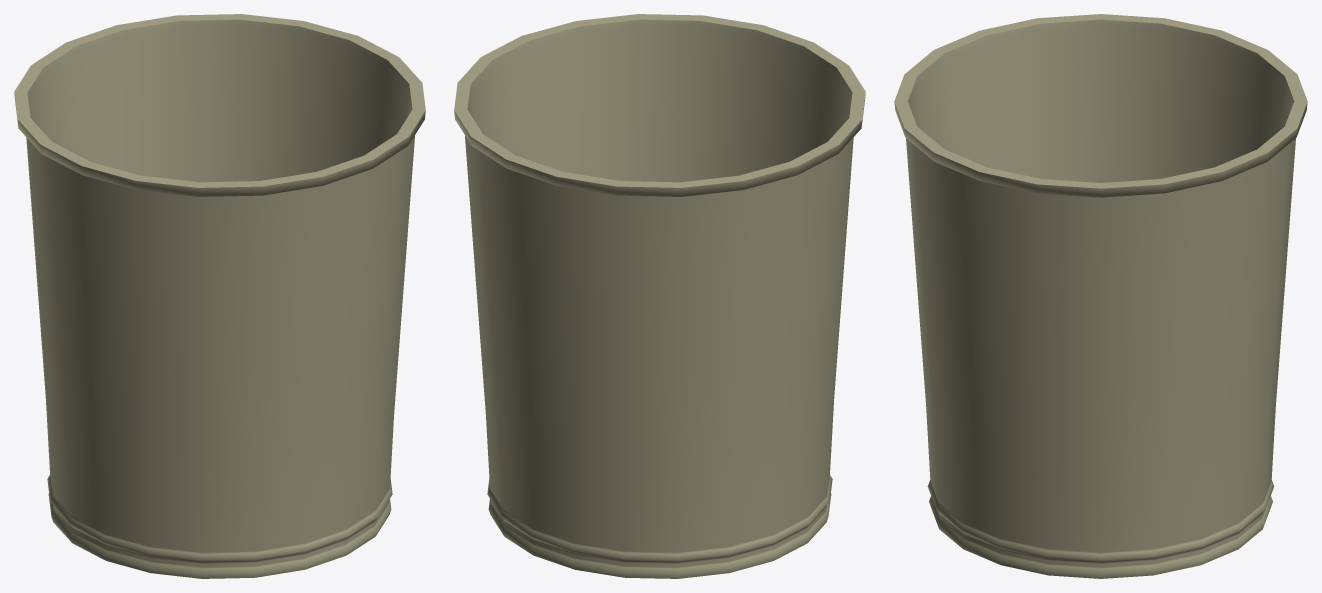
The model's file is wastebasket.fbx.
3 views of the same model, side by side, from view 1: azimuth 30°, elevation 25°; view 2: azimuth 150°, elevation 25°; view 3: azimuth 270°, elevation 25° (orthographic).
Visible parts, largest first — view 1: waste_basket_geo; view 2: waste_basket_geo; view 3: waste_basket_geo.
Boxes of the visible parts, box(x1,y1,x2,y2) form: waste_basket_geo: box(14, 14, 425, 578); waste_basket_geo: box(454, 14, 865, 578); waste_basket_geo: box(894, 14, 1307, 578).
Size of the model in its own units: 35.34 by 38.28 by 35.34.
